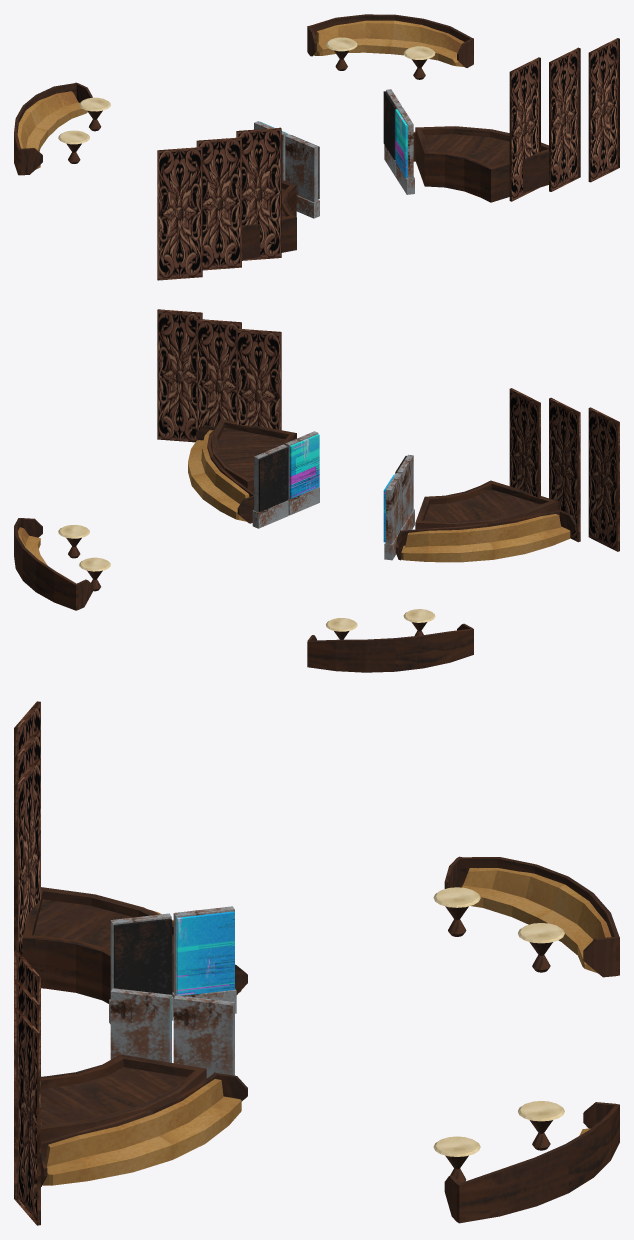
The model's file is MH_FurnitureCollection.fbx.
The picture shows the model from 3 angles, top to bottom: view 1: azimuth 30°, elevation 25°; view 2: azimuth 150°, elevation 25°; view 3: azimuth 270°, elevation 25°; orthographic projection. The views are drawn at different scales.
Parts seen in each view (by area): view 1: MH_plantpot_01, MH_Ukir03, MH_sofaIN_01.001, MH_Ukir02, MH_Ukir01, MH_Ukir05, MH_Ukir06, MH_sofaIN_01.002, MH_Ukir04, MH_infopanelV1_02, MH_infopanelV1_04, MH_infopanelV1_05 (+5 smaller); view 2: MH_plantpot_01, MH_SofaOut02, MH_sofaIN_01.002, MH_Ukir06, MH_Ukir04, MH_Ukir05, MH_Ukir03, MH_Ukir02, MH_sofaIN_01.001, MH_SofaOut01, MH_Ukir01, MH_infopanelV1_05 (+5 smaller); view 3: MH_plantpot_01, MH_SofaOut01, MH_sofaIN_01.002, MH_sofaIN_01.001, MH_infopanelV1_03, MH_Ukir06, MH_infopanelV1_02, MH_infopanelV1_05, MH_Ukir01, MH_infopanelV1_04, MH_Table04, MH_Table02 (+6 smaller).
Boxes of the visible parts, x1,y1,x2,y2 form: MH_plantpot_01: (242,126,548,260); MH_Ukir03: (157,147,202,280); MH_sofaIN_01.001: (307,14,473,67); MH_Ukir02: (196,137,241,270); MH_Ukir01: (236,127,281,260); MH_Ukir05: (549,47,580,191); MH_Ukir06: (588,38,619,182); MH_sofaIN_01.002: (14,82,92,175); MH_Ukir04: (509,57,540,201); MH_infopanelV1_02: (285,134,319,218); MH_infopanelV1_04: (395,107,414,194); MH_infopanelV1_05: (383,89,401,176); MH_plantpot_01: (211,419,558,529); MH_SofaOut02: (395,510,576,562); MH_sofaIN_01.002: (307,623,473,672); MH_Ukir06: (157,309,202,442); MH_Ukir04: (236,328,281,430); MH_Ukir05: (196,319,241,440); MH_Ukir03: (588,407,619,551); MH_Ukir02: (549,397,580,542); MH_sofaIN_01.001: (14,518,93,610); MH_SofaOut01: (188,425,253,523); MH_Ukir01: (509,388,540,503); MH_infopanelV1_05: (252,444,288,528); MH_plantpot_01: (22,887,206,1141); MH_SofaOut01: (41,1072,247,1186); MH_sofaIN_01.002: (444,856,619,977); MH_sofaIN_01.001: (444,1102,619,1223); MH_infopanelV1_03: (172,906,236,1016); MH_Ukir06: (14,1007,40,1225); MH_infopanelV1_02: (109,913,173,1024); MH_infopanelV1_05: (173,995,234,1078); MH_Ukir01: (14,758,40,954); MH_infopanelV1_04: (110,988,171,1062); MH_Table04: (433,887,480,936); MH_Table02: (518,1101,564,1150).
Bounding box in the file's own units: 1874 × 500 × 1439.
